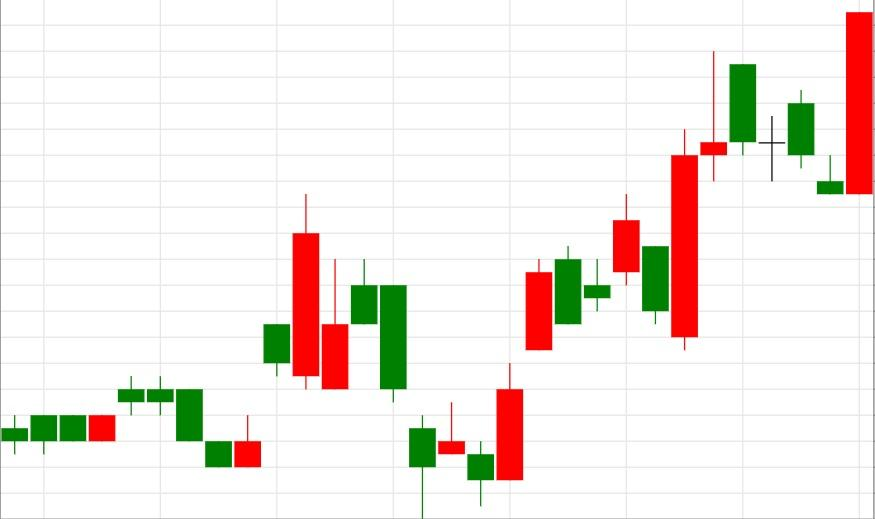bullish_engulfing_rise: (612, 129, 699, 351), (117, 376, 262, 468)
